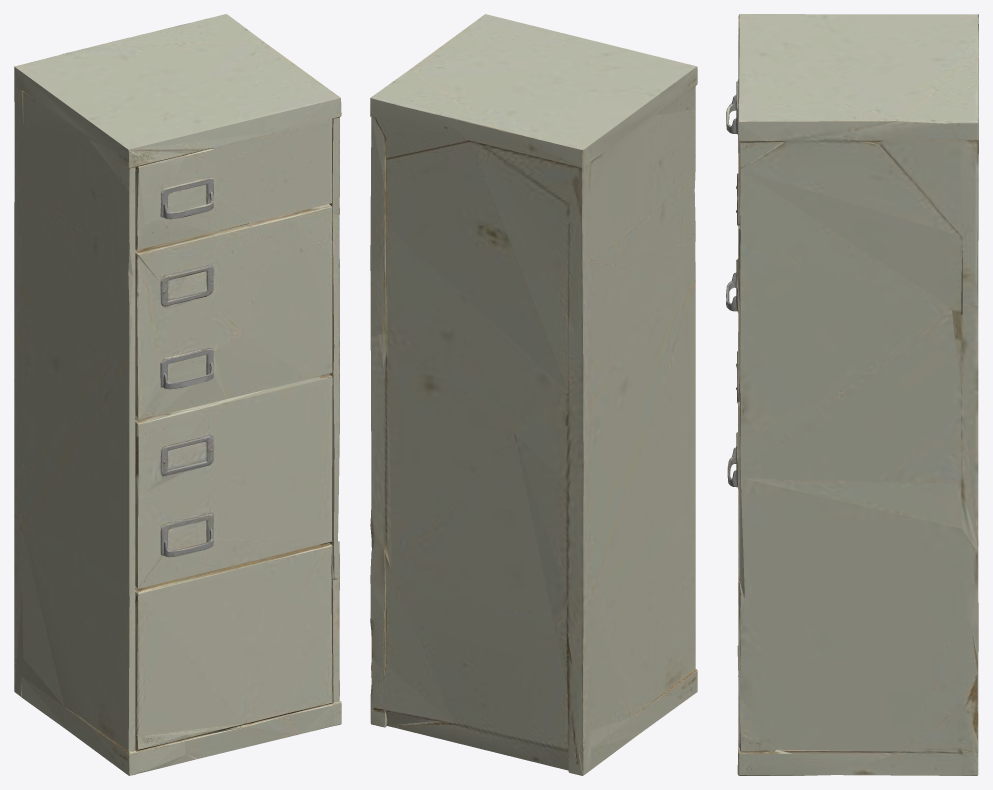
Rendered from schedario_A.glb.
3 views of the same model, side by side, from view 1: azimuth 30°, elevation 25°; view 2: azimuth 150°, elevation 25°; view 3: azimuth 270°, elevation 25° (orthographic). The views are drawn at different scales.
Visible parts, largest first — view 1: Mesh_0; view 2: Mesh_0; view 3: Mesh_0.
Part boxes in pixels (x1=…): Mesh_0: x1=14, y1=14, x2=341, y2=775; Mesh_0: x1=370, y1=14, x2=697, y2=775; Mesh_0: x1=726, y1=14, x2=978, y2=775.
Bounding box in the file's own units: 0.4807 × 1.35 × 0.4728.
1 material, 1 textured.
